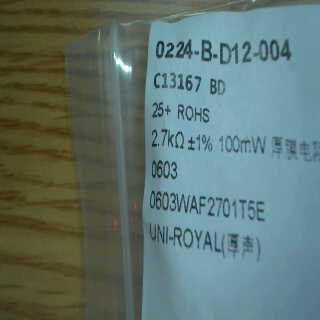2.7kR: (150, 127, 185, 155)
